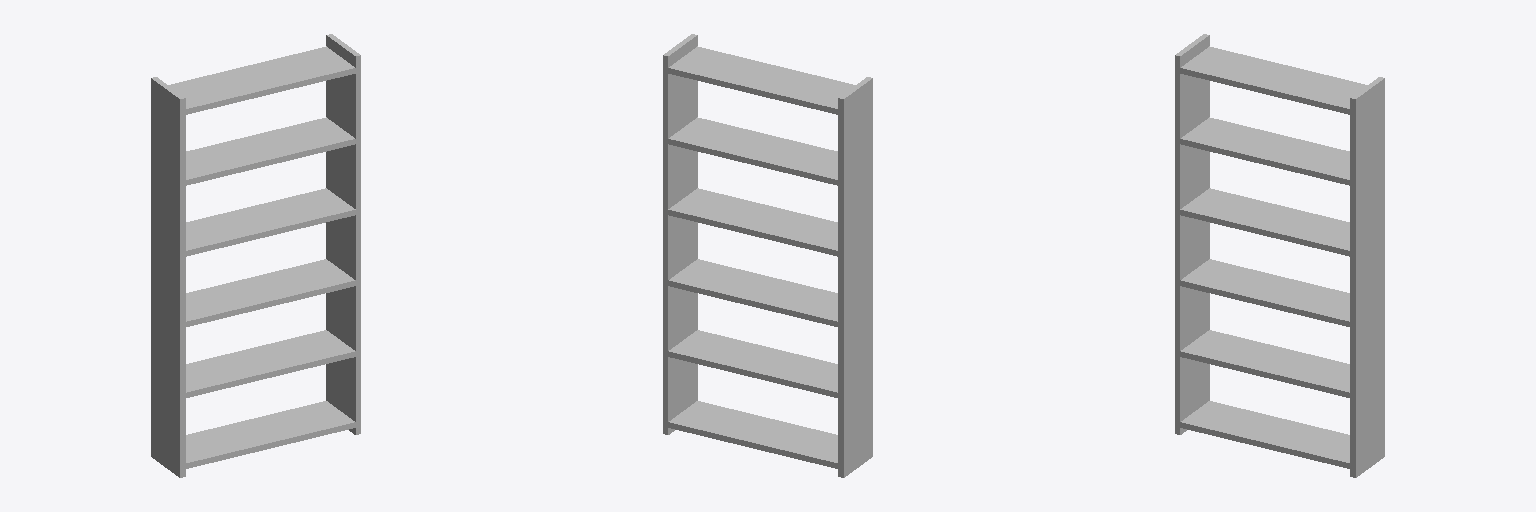
File: shelve.obj
3 views of the same model, side by side, from view 1: azimuth 30°, elevation 25°; view 2: azimuth 150°, elevation 25°; view 3: azimuth 330°, elevation 25° (orthographic).
Visible parts, largest first — view 1: Shelves1; view 2: Shelves1; view 3: Shelves1.
Part boxes in pixels (left/top/right/bottom): Shelves1: left=151, top=34, right=360, bottom=477; Shelves1: left=663, top=34, right=872, bottom=477; Shelves1: left=1175, top=34, right=1384, bottom=477.
Size of the model in its own units: 1 by 2 by 0.28.